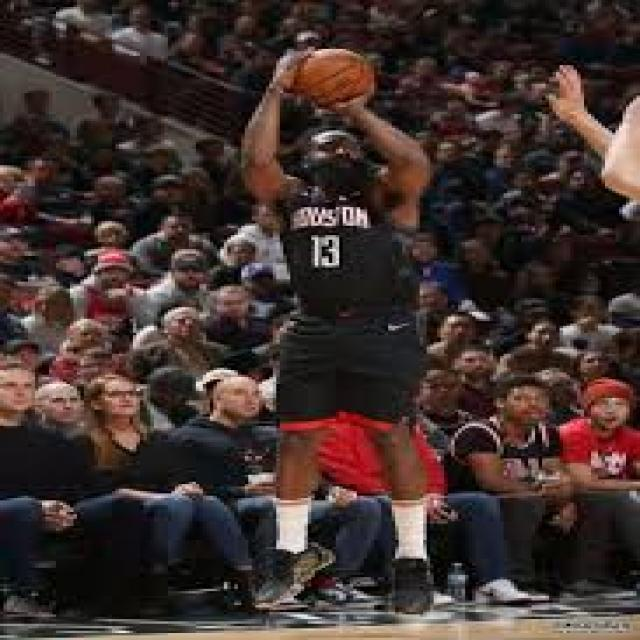rim: (298, 46, 370, 102)
